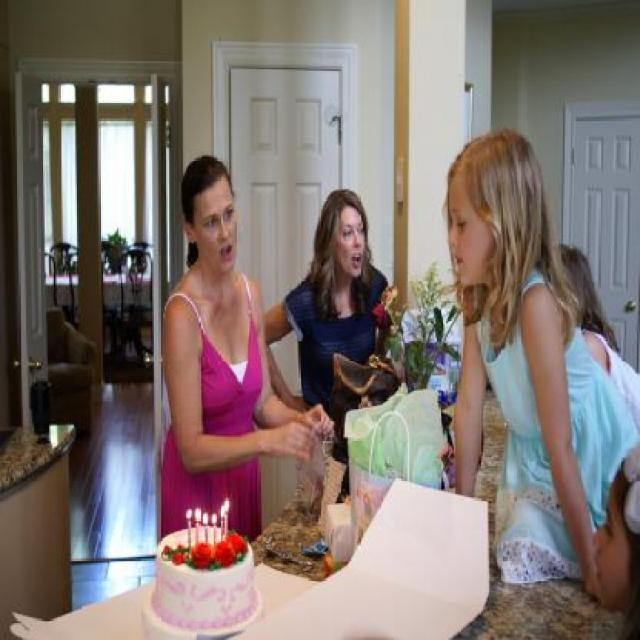Cake: (150, 528, 258, 632)
